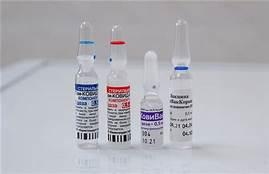Syringe: (102, 4, 135, 152), (165, 10, 196, 158), (71, 16, 101, 151), (134, 42, 166, 152)
